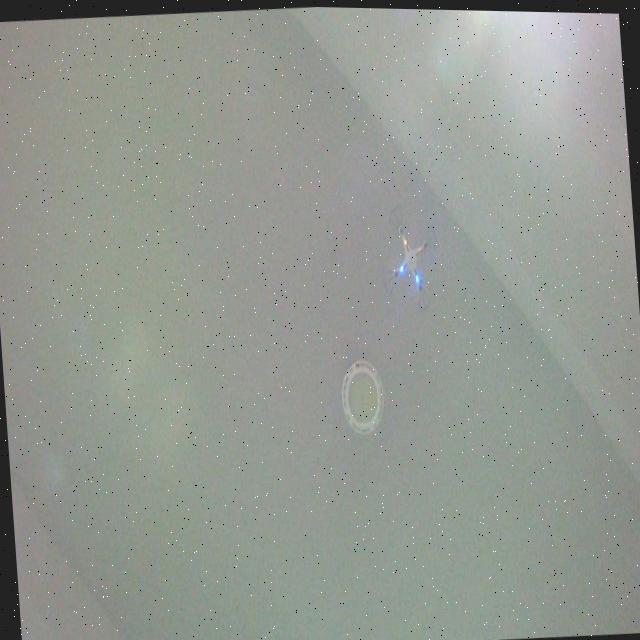drone: (374, 196, 446, 315)
